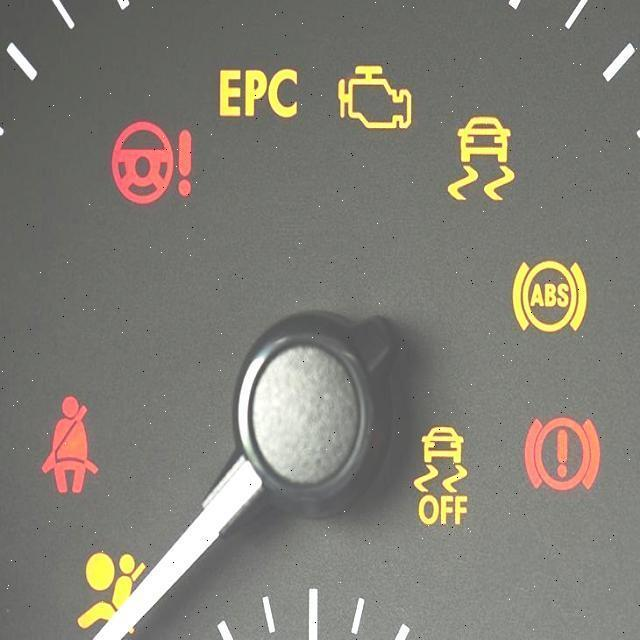Electronic Power Steering Warning: (108, 121, 192, 206)
Seat Belt: (44, 392, 95, 496)
